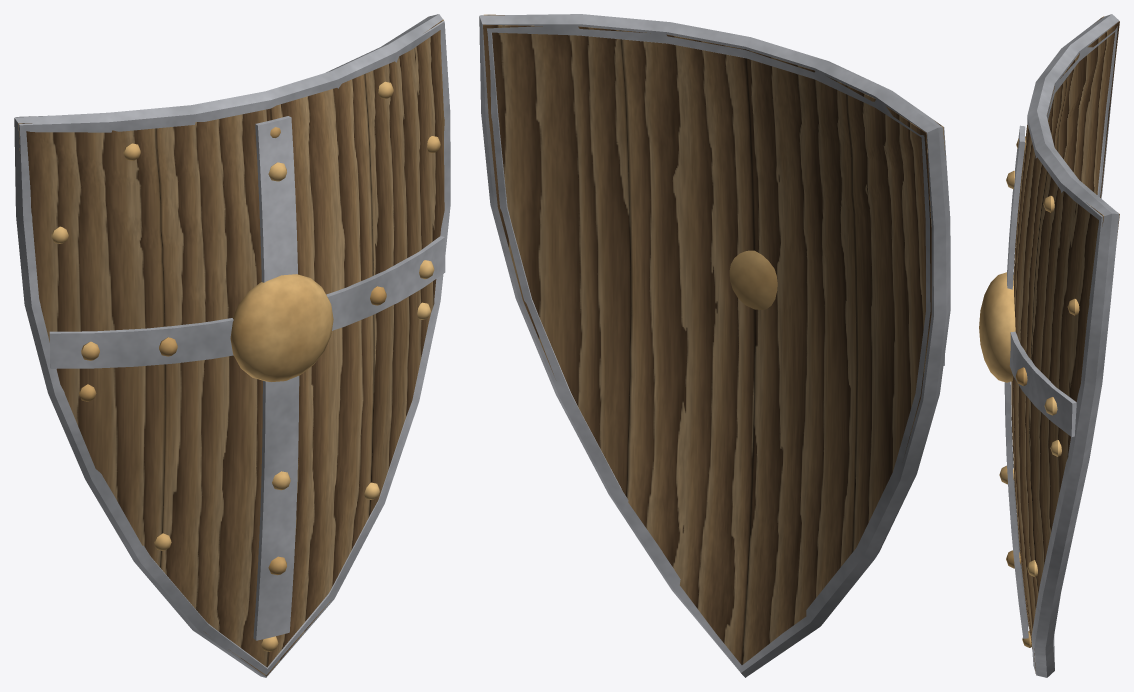
Rendered from escudo.glb.
3 renders of one model, left to right at view 1: azimuth 30°, elevation 25°; view 2: azimuth 150°, elevation 25°; view 3: azimuth 270°, elevation 25°, orthographic. The views are drawn at different scales.
Visible parts, largest first — view 1: Escudo_Bronce; view 2: Escudo_Bronce; view 3: Escudo_Bronce.
Part boxes in pixels (box(x1,y1,x2,y2)): Escudo_Bronce: box(14, 14, 450, 677); Escudo_Bronce: box(479, 14, 950, 677); Escudo_Bronce: box(979, 14, 1119, 677).
Size of the model in its own units: 1.03 by 1.35 by 0.3034.
3 materials, 3 textured.
